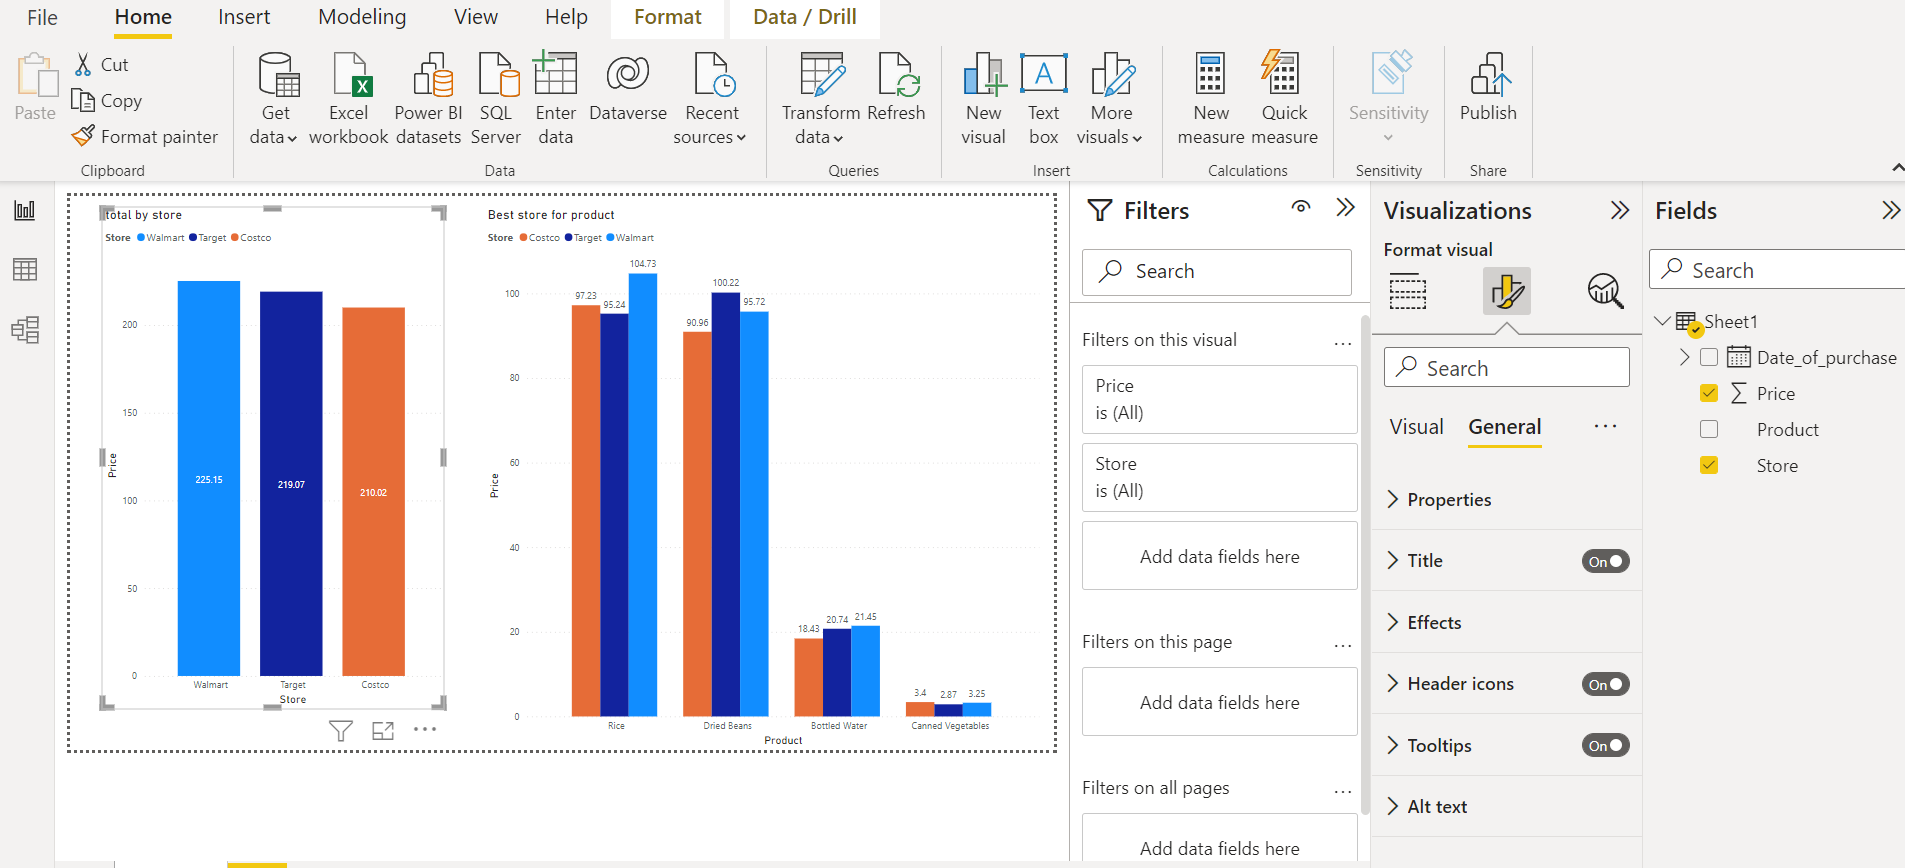

What the dashboard file says about the page in this screenshot:
{"tool":"powerbi","page":{"name":"Page 1","canvas":[1280,720],"ordinal":0},"visuals":[{"type":"columnChart","title":"total by store","fields":{"Category":["Sheet1.Store"],"Y":["Sum(Sheet1.Price)"],"Series":["Sheet1.Store"]},"box":[41,13.7,446.8,653.7],"z":0},{"type":"clusteredColumnChart","title":"Best store for product","fields":{"Category":["Sheet1.Product"],"Y":["Sum(Sheet1.Price)"],"Series":["Sheet1.Store"]},"box":[538.5,13.7,727.8,706.3],"z":1}]}

Visuals, with their boxes on the page's 1280x720 design canvas (x1, y1, x2, y2). These are canvas units, not pixel positions in the 1905x868 screenshot, which may show the page scaled, cropped or inside an application window:
"total by store" columnChart: {"x1": 41, "y1": 14, "x2": 488, "y2": 667}
"Best store for product" clusteredColumnChart: {"x1": 538, "y1": 14, "x2": 1266, "y2": 720}
